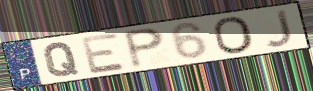6: (168, 20, 212, 61)
E: (79, 31, 129, 76)
J: (263, 8, 295, 49)
O: (211, 15, 257, 55)
P: (121, 26, 167, 70)
Q: (41, 41, 81, 78)
